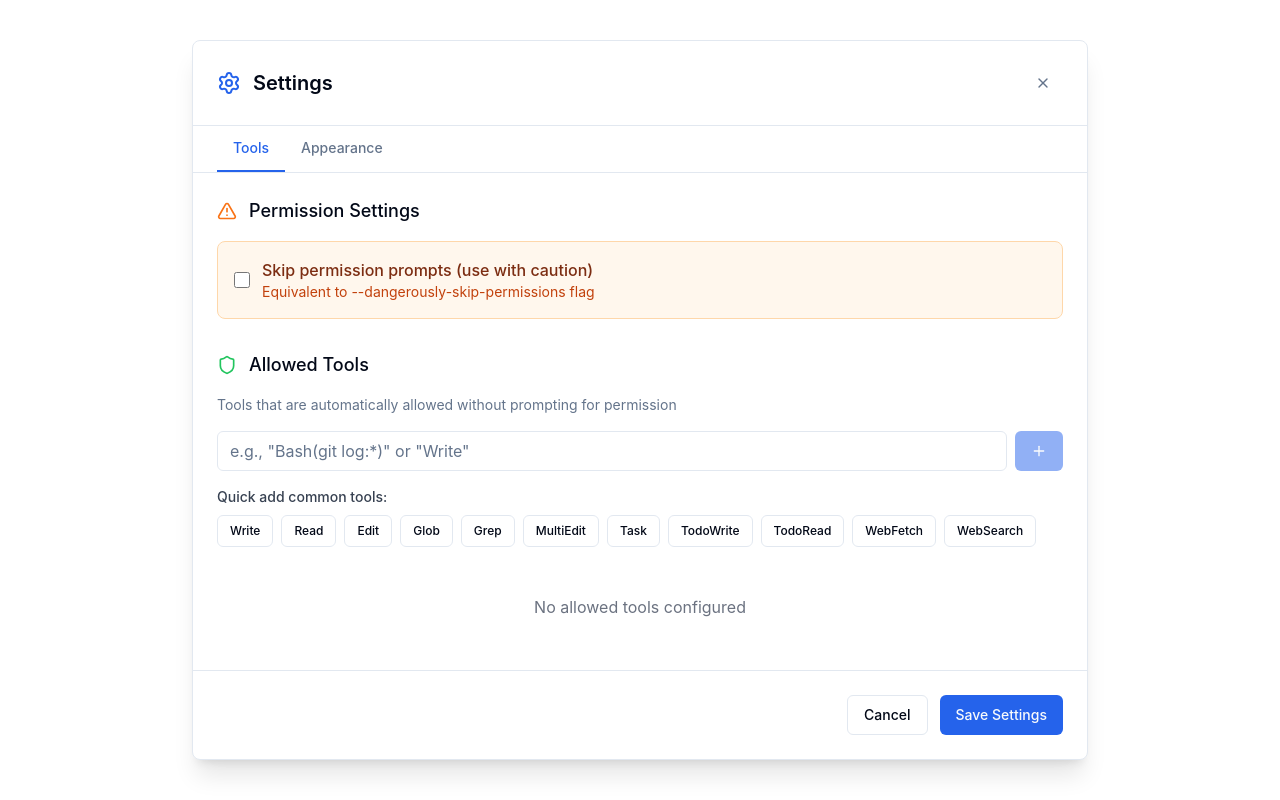
Scenario: Settings Component › Tools Tab › should add common tools when quick add button clicked
This screenshot has width=1280, height=800.
// Find the quick add section
Step 1. Click the button "Read" → (309, 531), box [281, 515, 336, 547]
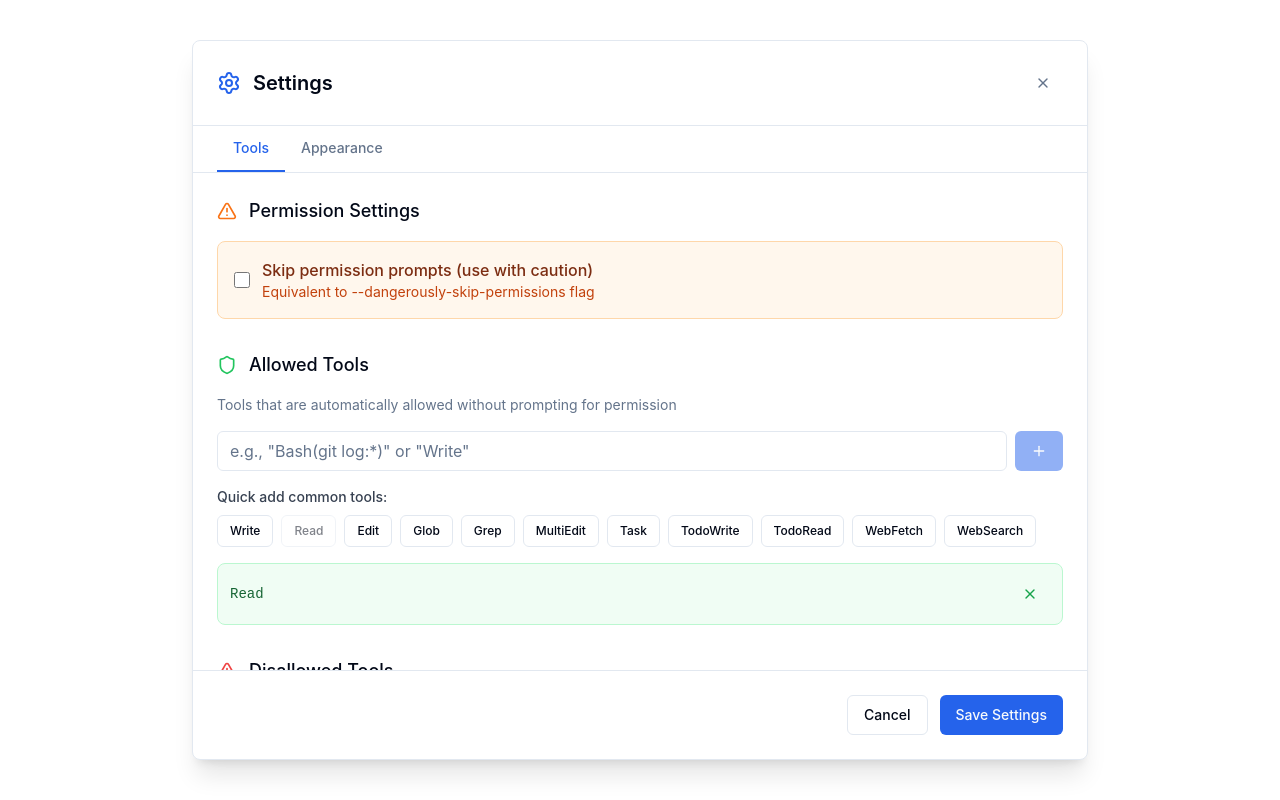
Expected: the button "Read" is disabled, [281, 515, 336, 547]
